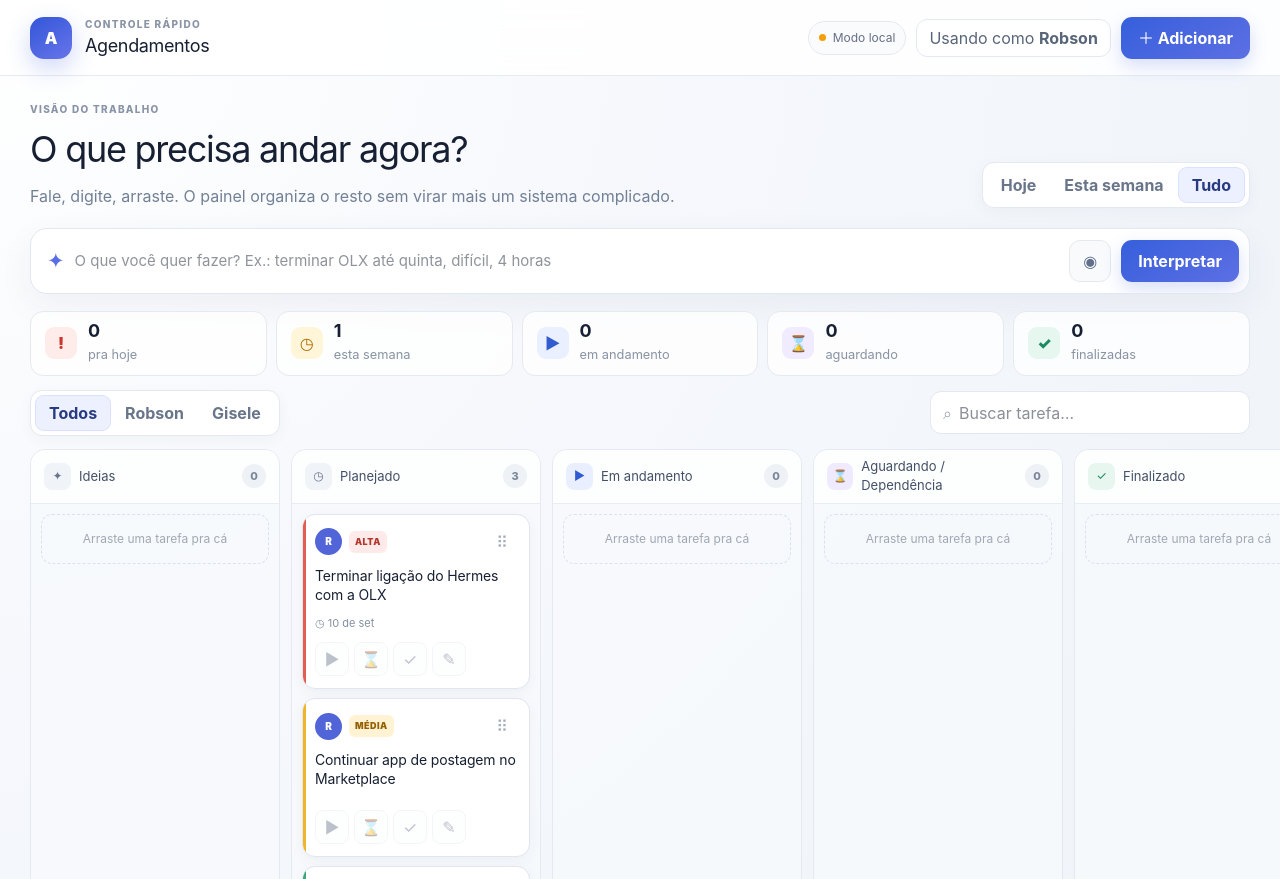
Test: Agendamentos › interpreta uma entrada rápida e mostra a prévia
The width and height of the screenshot is (1280, 879).
Type "Terminar OLX até quinta, difícil, 4 horas" into the field with placeholder "O que você quer fazer" at (567, 261), box left=75, top=250, right=1059, bottom=272
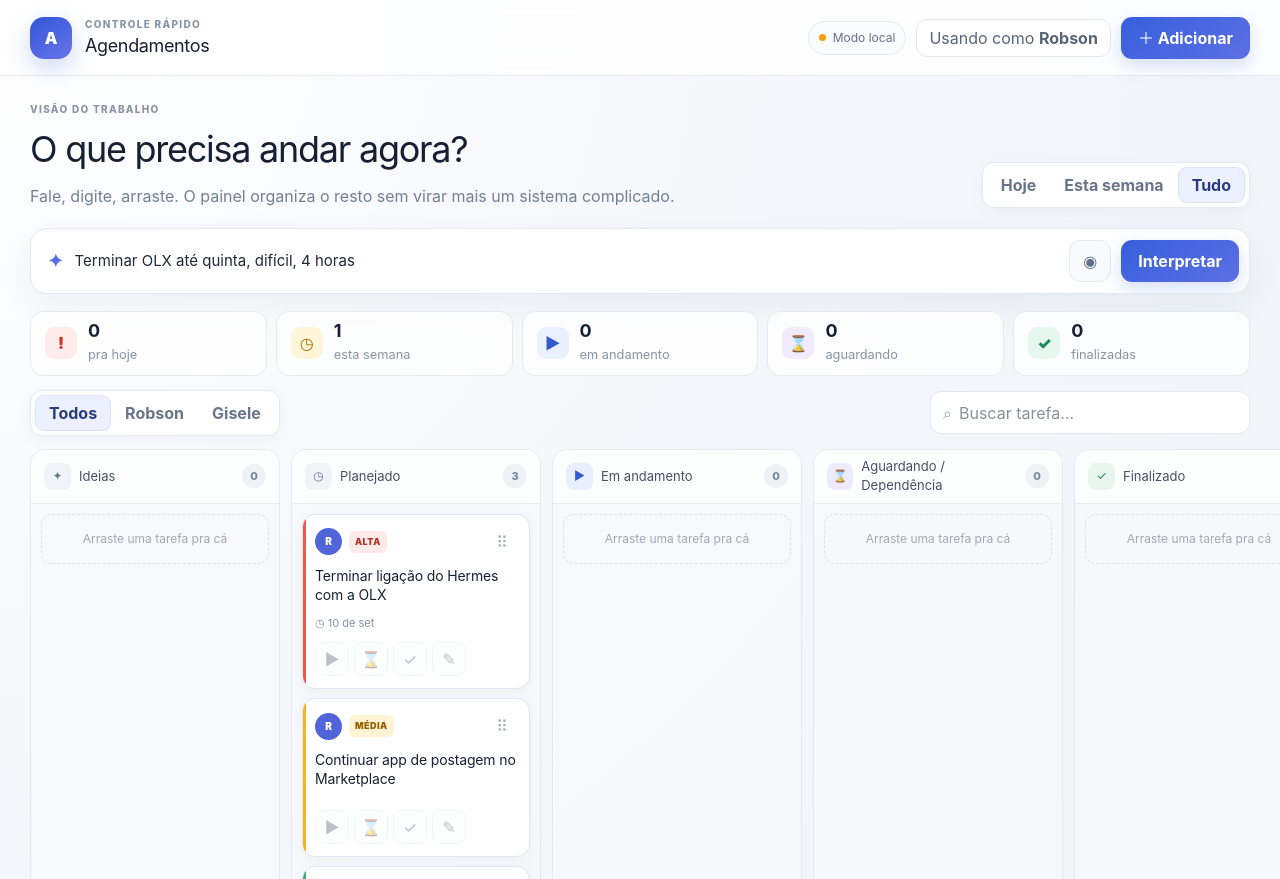
Click the button "Interpretar" at (1180, 261), box left=1121, top=240, right=1239, bottom=282
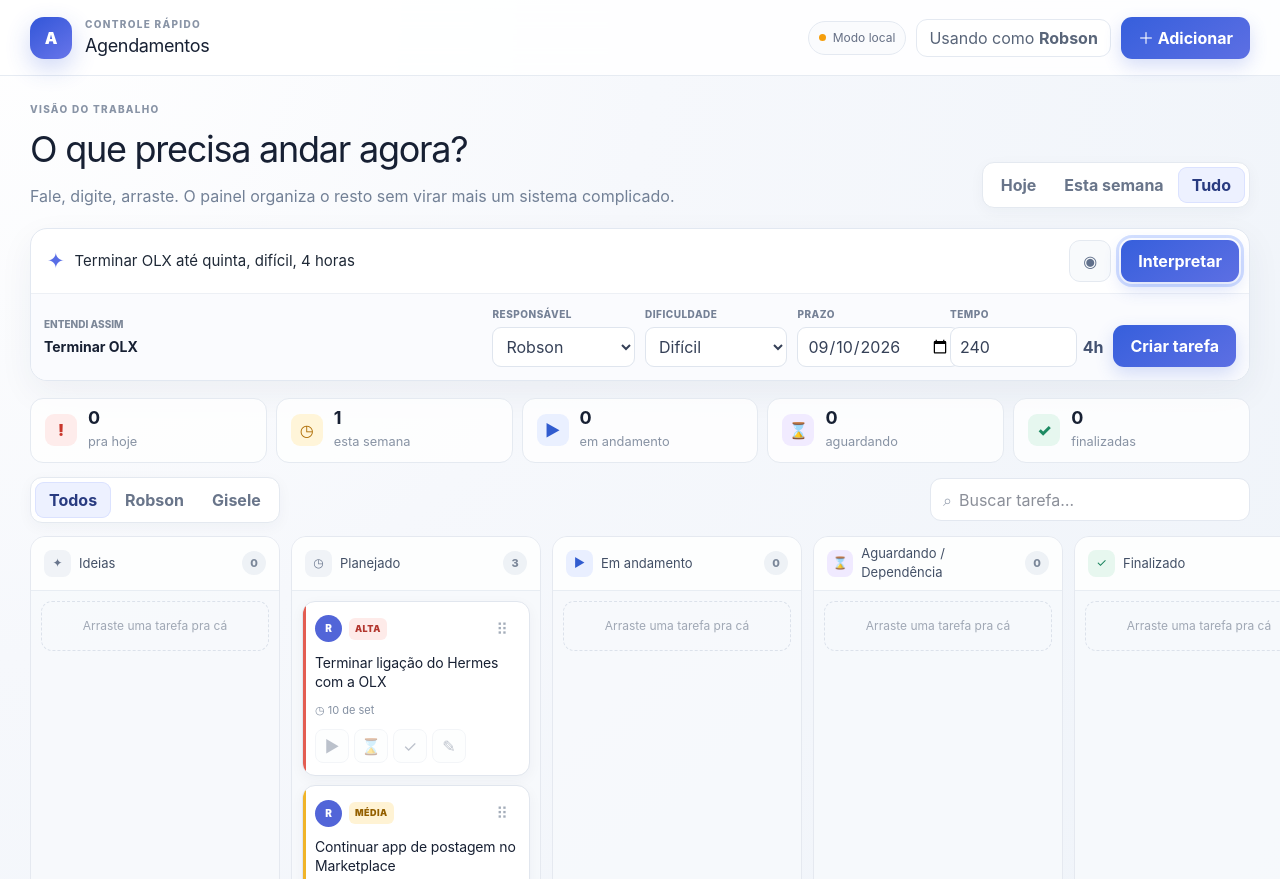
Result: the text "4h" is shown at left=1083, top=335, right=1103, bottom=359
